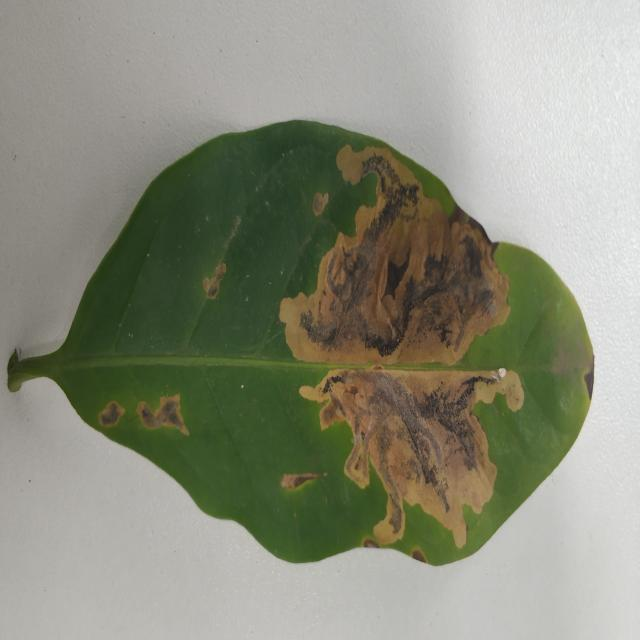Plaga-Minador: (6, 120, 597, 570)
